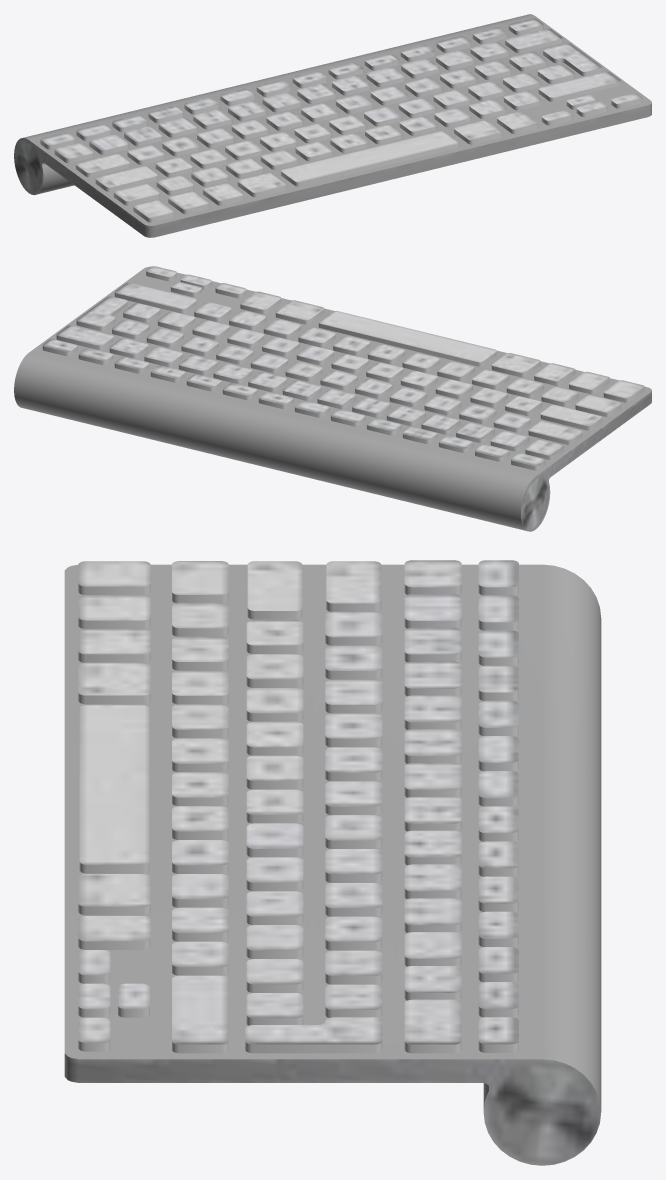
The model's file is apple-keyboard.glb.
The picture shows the model from 3 angles, top to bottom: view 1: azimuth 30°, elevation 25°; view 2: azimuth 150°, elevation 25°; view 3: azimuth 270°, elevation 25°; orthographic projection. The views are drawn at different scales.
Parts seen in each view (by area): view 1: Cylinder_0; view 2: Cylinder_0; view 3: Cylinder_0.
Boxes of the visible parts, x1,y1,x2,y2 form: Cylinder_0: (14,14,651,237); Cylinder_0: (14,266,651,531); Cylinder_0: (64,560,601,1165).
Bounding box in the file's own units: 0.279 × 0.0303 × 0.1278.
1 material, 1 textured.
